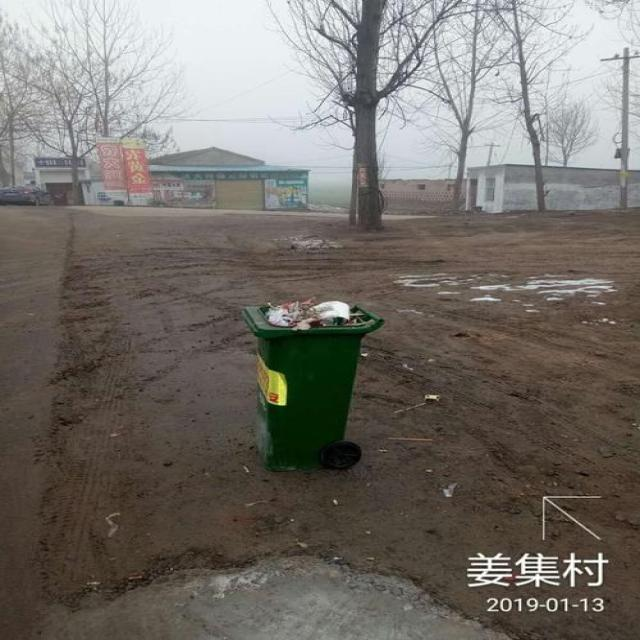overflow: (241, 297, 384, 471)
